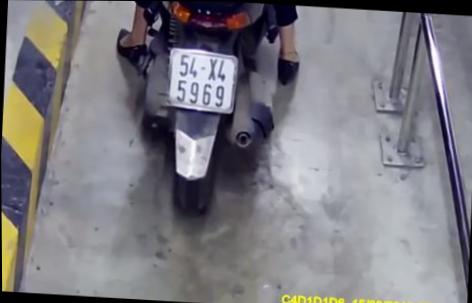LP: (164, 44, 240, 115)
